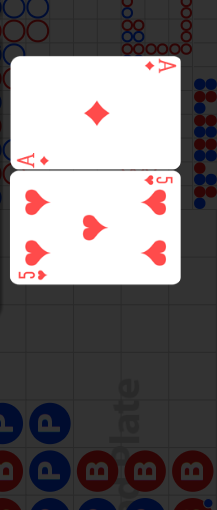5H: (17, 269, 49, 281)
AD: (142, 59, 176, 75)
